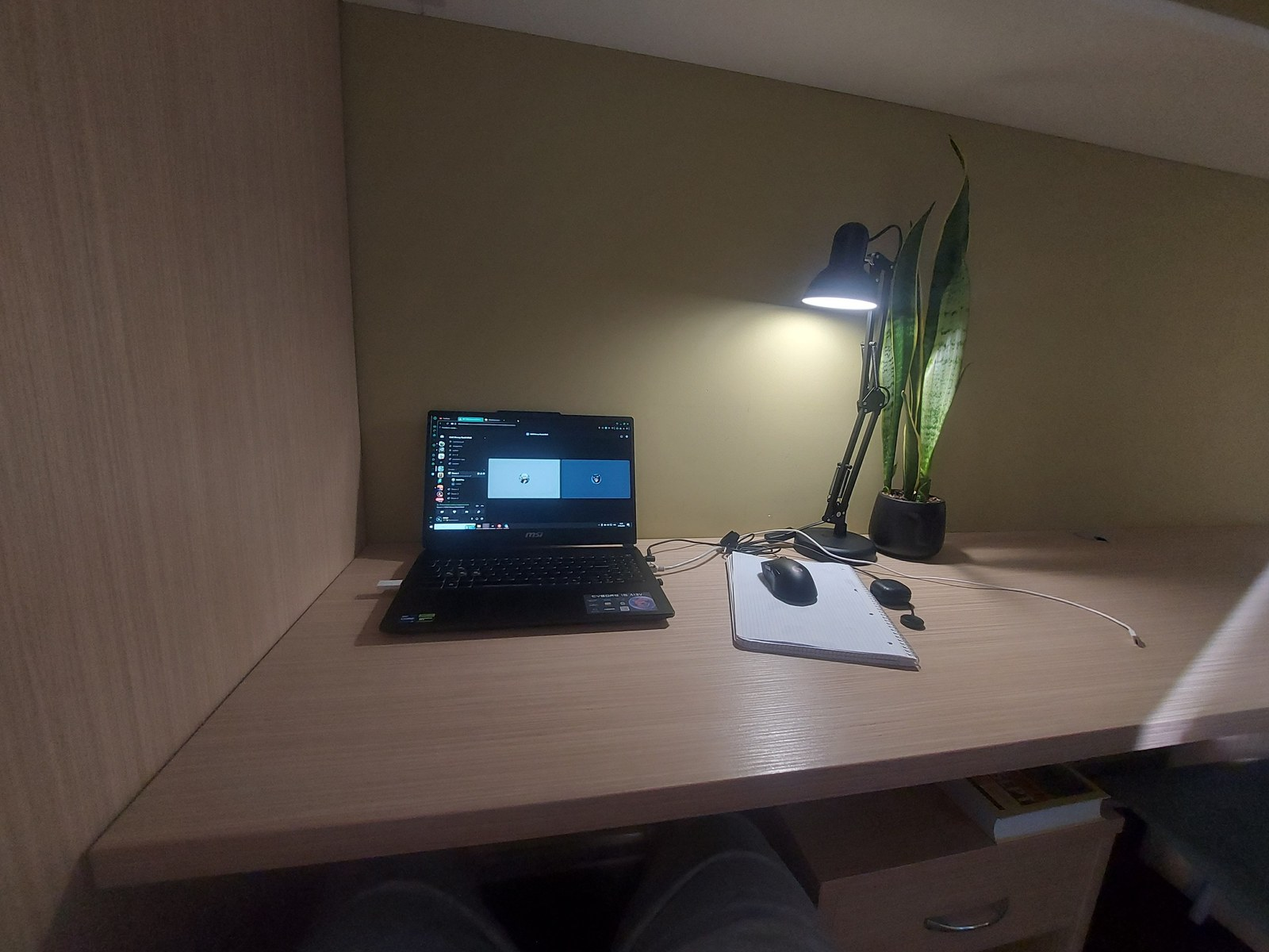laptop: (378, 408, 675, 635)
